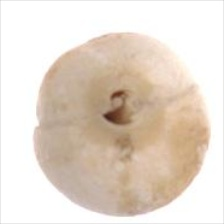L3: (95, 88, 148, 127)
L4: (32, 32, 209, 216)
